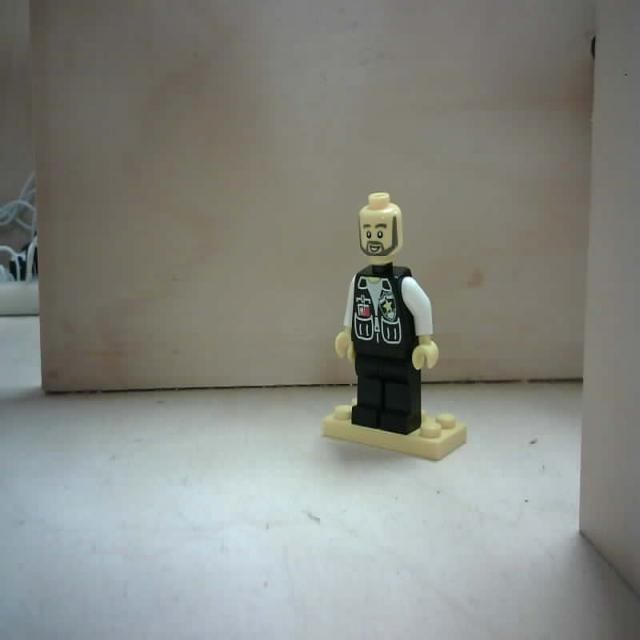Lego-People: (317, 188, 473, 472)
